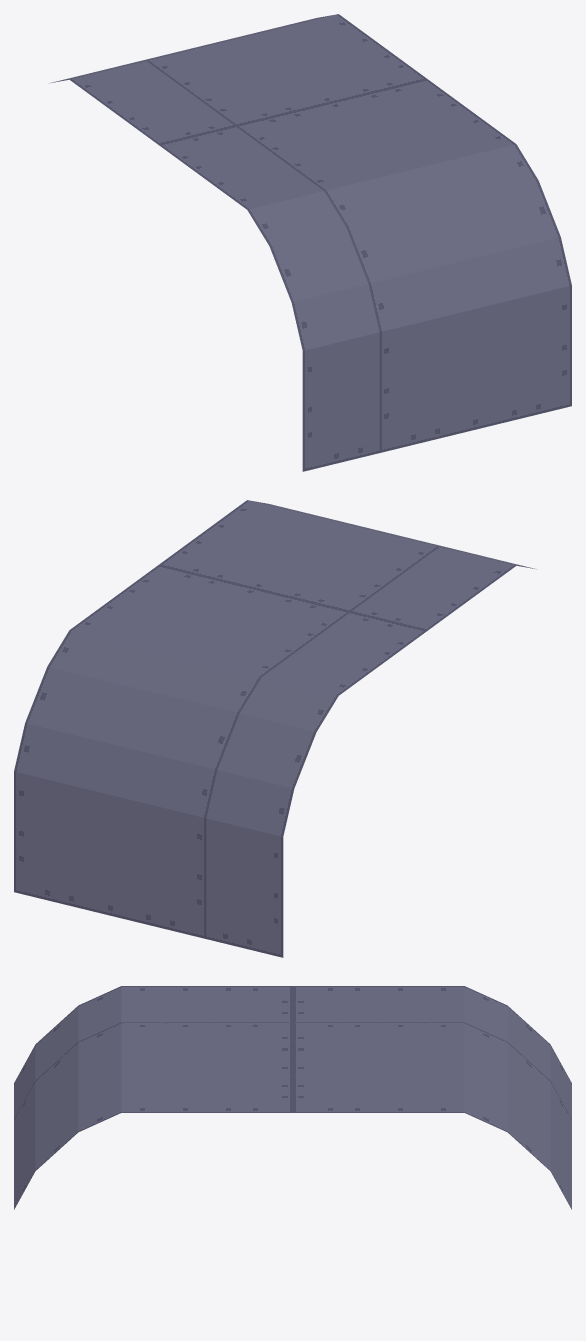
File: SubHull-2x7.gltf
The picture shows the model from 3 angles, top to bottom: view 1: azimuth 30°, elevation 25°; view 2: azimuth 150°, elevation 25°; view 3: azimuth 270°, elevation 25°; orthographic projection. The views are drawn at different scales.
Visible parts, largest first — view 1: SubHull-2x7; view 2: SubHull-2x7; view 3: SubHull-2x7.
Part boxes in pixels (x1,y1,x2,y2): SubHull-2x7: [49, 14, 571, 471]; SubHull-2x7: [14, 500, 536, 957]; SubHull-2x7: [14, 986, 571, 1209].
Size of the model in its own units: 3.5 by 2.75 by 6.5.
1 material, 1 textured.
